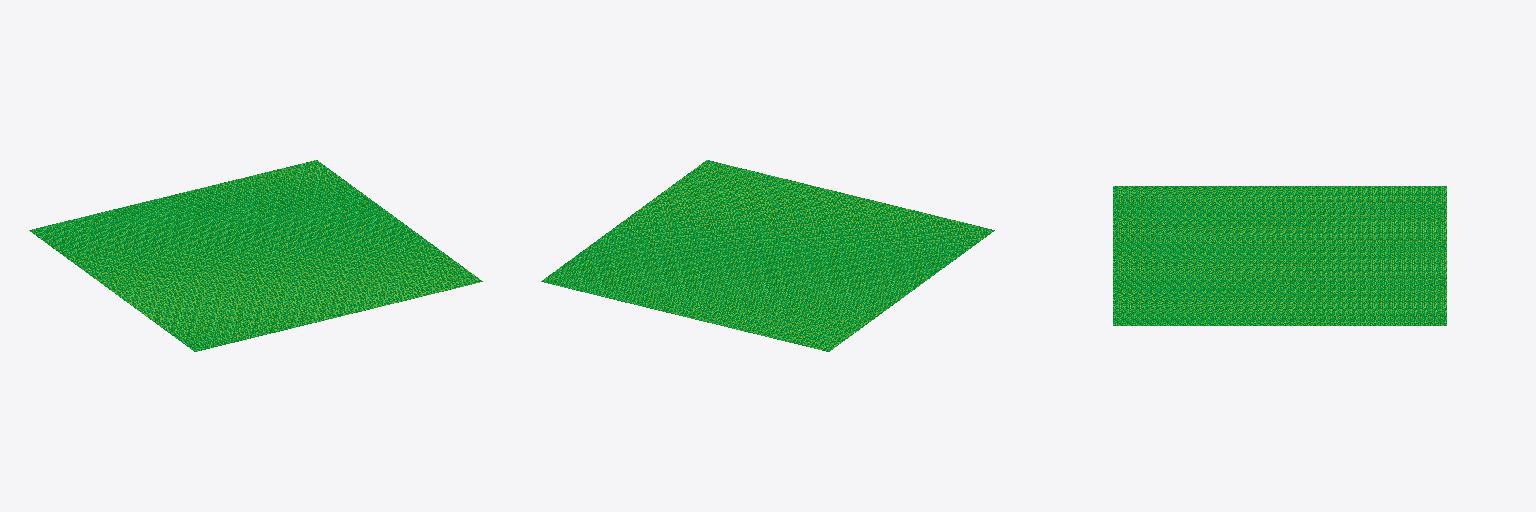
3 views of the same model, side by side, from view 1: azimuth 30°, elevation 25°; view 2: azimuth 150°, elevation 25°; view 3: azimuth 270°, elevation 25° (orthographic).
Parts seen in each view (by area): view 1: Ground_Plane; view 2: Ground_Plane; view 3: Ground_Plane.
Part boxes in pixels (x1,y1,x2,y2): Ground_Plane: (29,160,482,351); Ground_Plane: (541,160,994,351); Ground_Plane: (1113,186,1446,325).
Bounding box in the file's own units: 200 × 0 × 200.
1 materials, 1 textured.